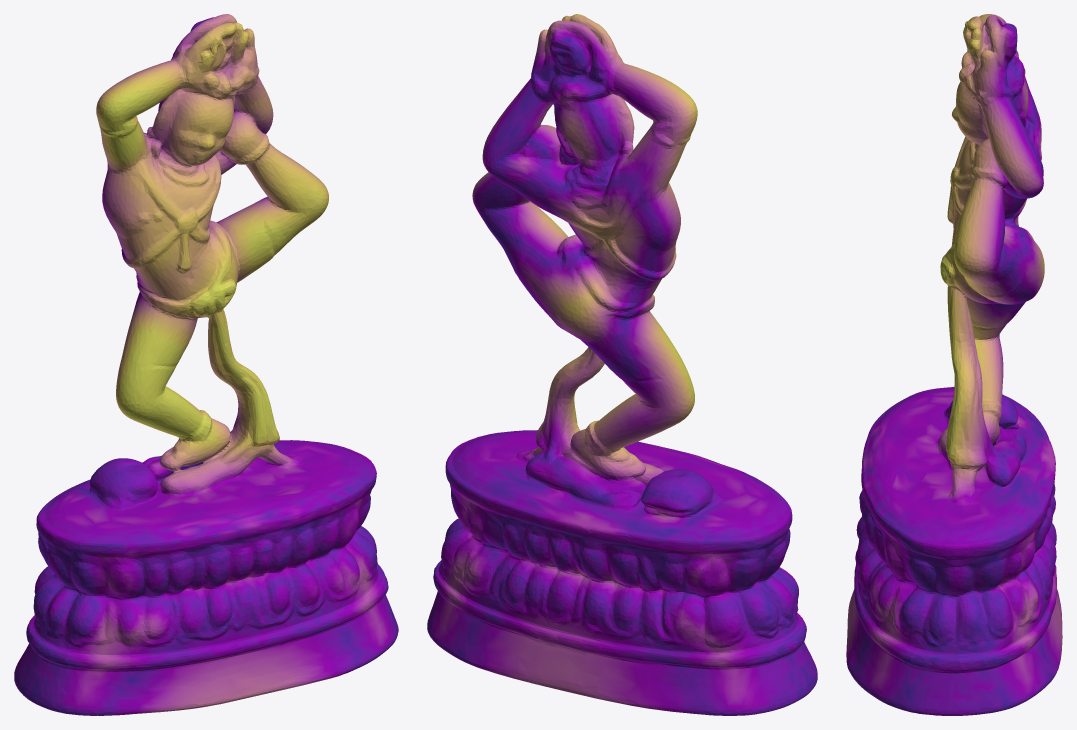
The model's file is iter_17.glb.
3 renders of one model, left to right at view 1: azimuth 30°, elevation 25°; view 2: azimuth 150°, elevation 25°; view 3: azimuth 270°, elevation 25°, orthographic. The views are drawn at different scales.
Visible parts, largest first — view 1: textured_mesh; view 2: textured_mesh; view 3: textured_mesh.
Part boxes in pixels (box(x1,y1,x2,y2)): textured_mesh: box(14, 14, 398, 715); textured_mesh: box(427, 14, 817, 715); textured_mesh: box(846, 14, 1062, 715).
Size of the model in its own units: 1.2 by 1.99 by 0.624.
